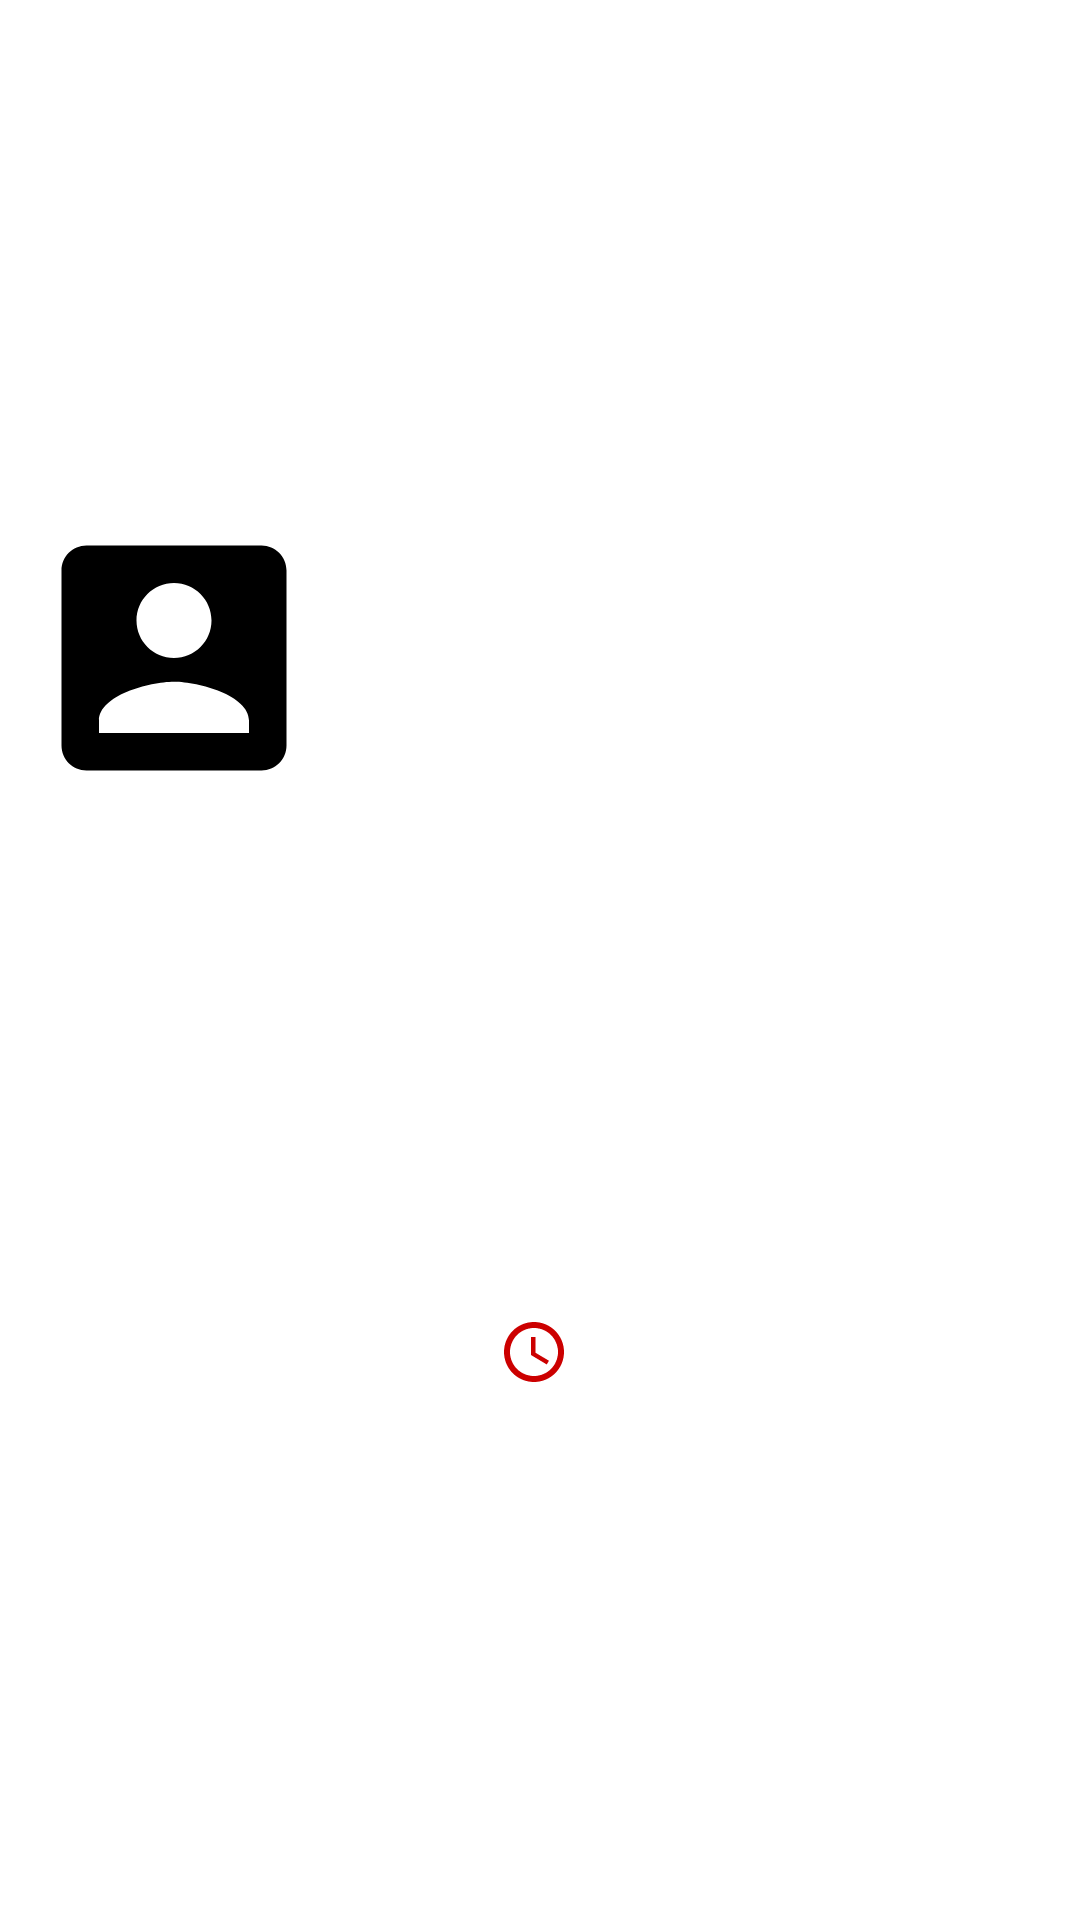

Where icons sit on this 1080w x 1920h app screen, as bbox=[x1, y1, x2, y2]:
access time: bbox=[504, 1322, 564, 1382]
account box: bbox=[61, 545, 287, 771]
